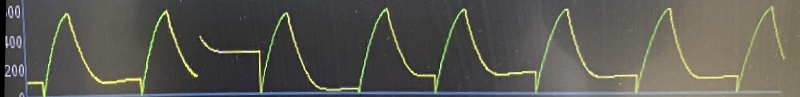leakage: (21, 1, 798, 97)
